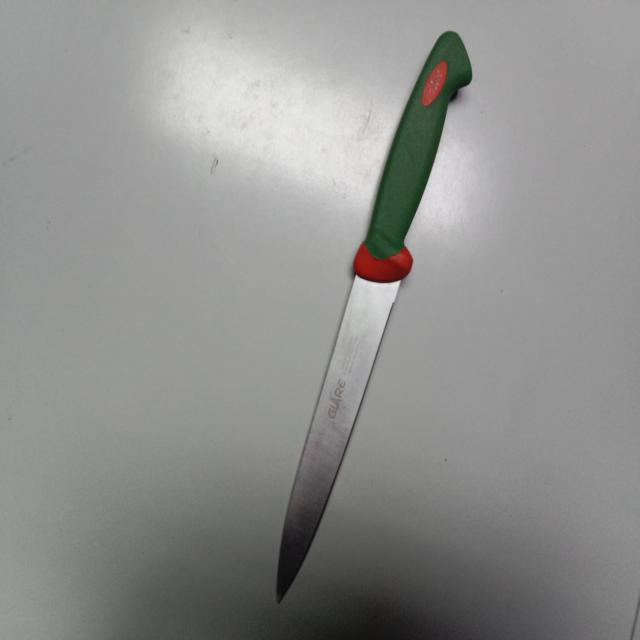Knife: (276, 30, 473, 603)
